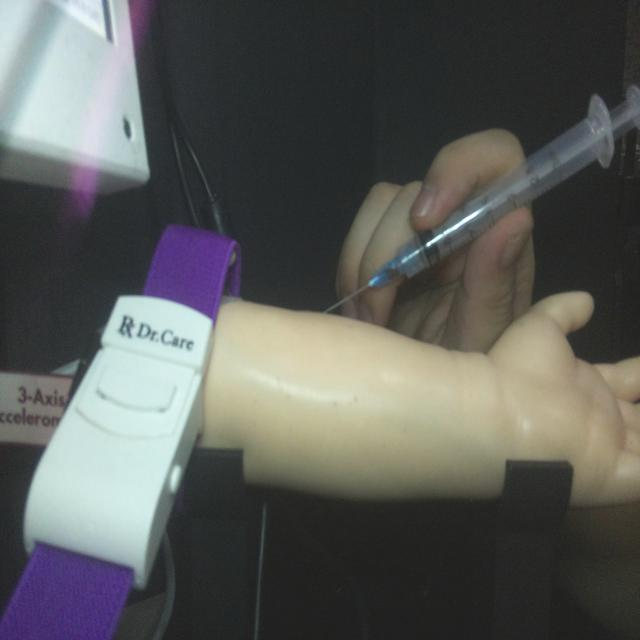23 degrees: (325, 86, 638, 313)
